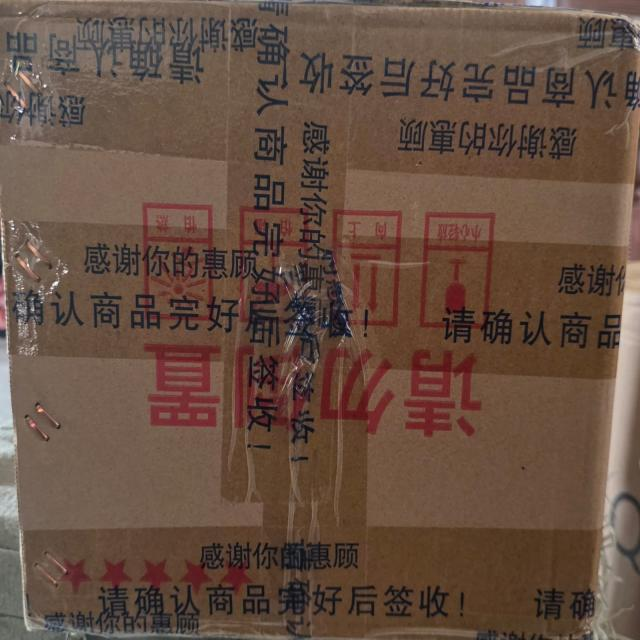carton_box: (0, 0, 640, 640)
fragile_label: (423, 204, 497, 344)
keep_dry_label: (235, 195, 335, 346)
protect_from_heat_label: (121, 194, 223, 332)
this_side_up_label: (336, 199, 412, 337)
